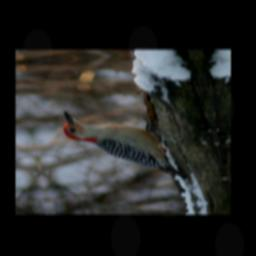Woodpecker: (59, 102, 186, 187)
